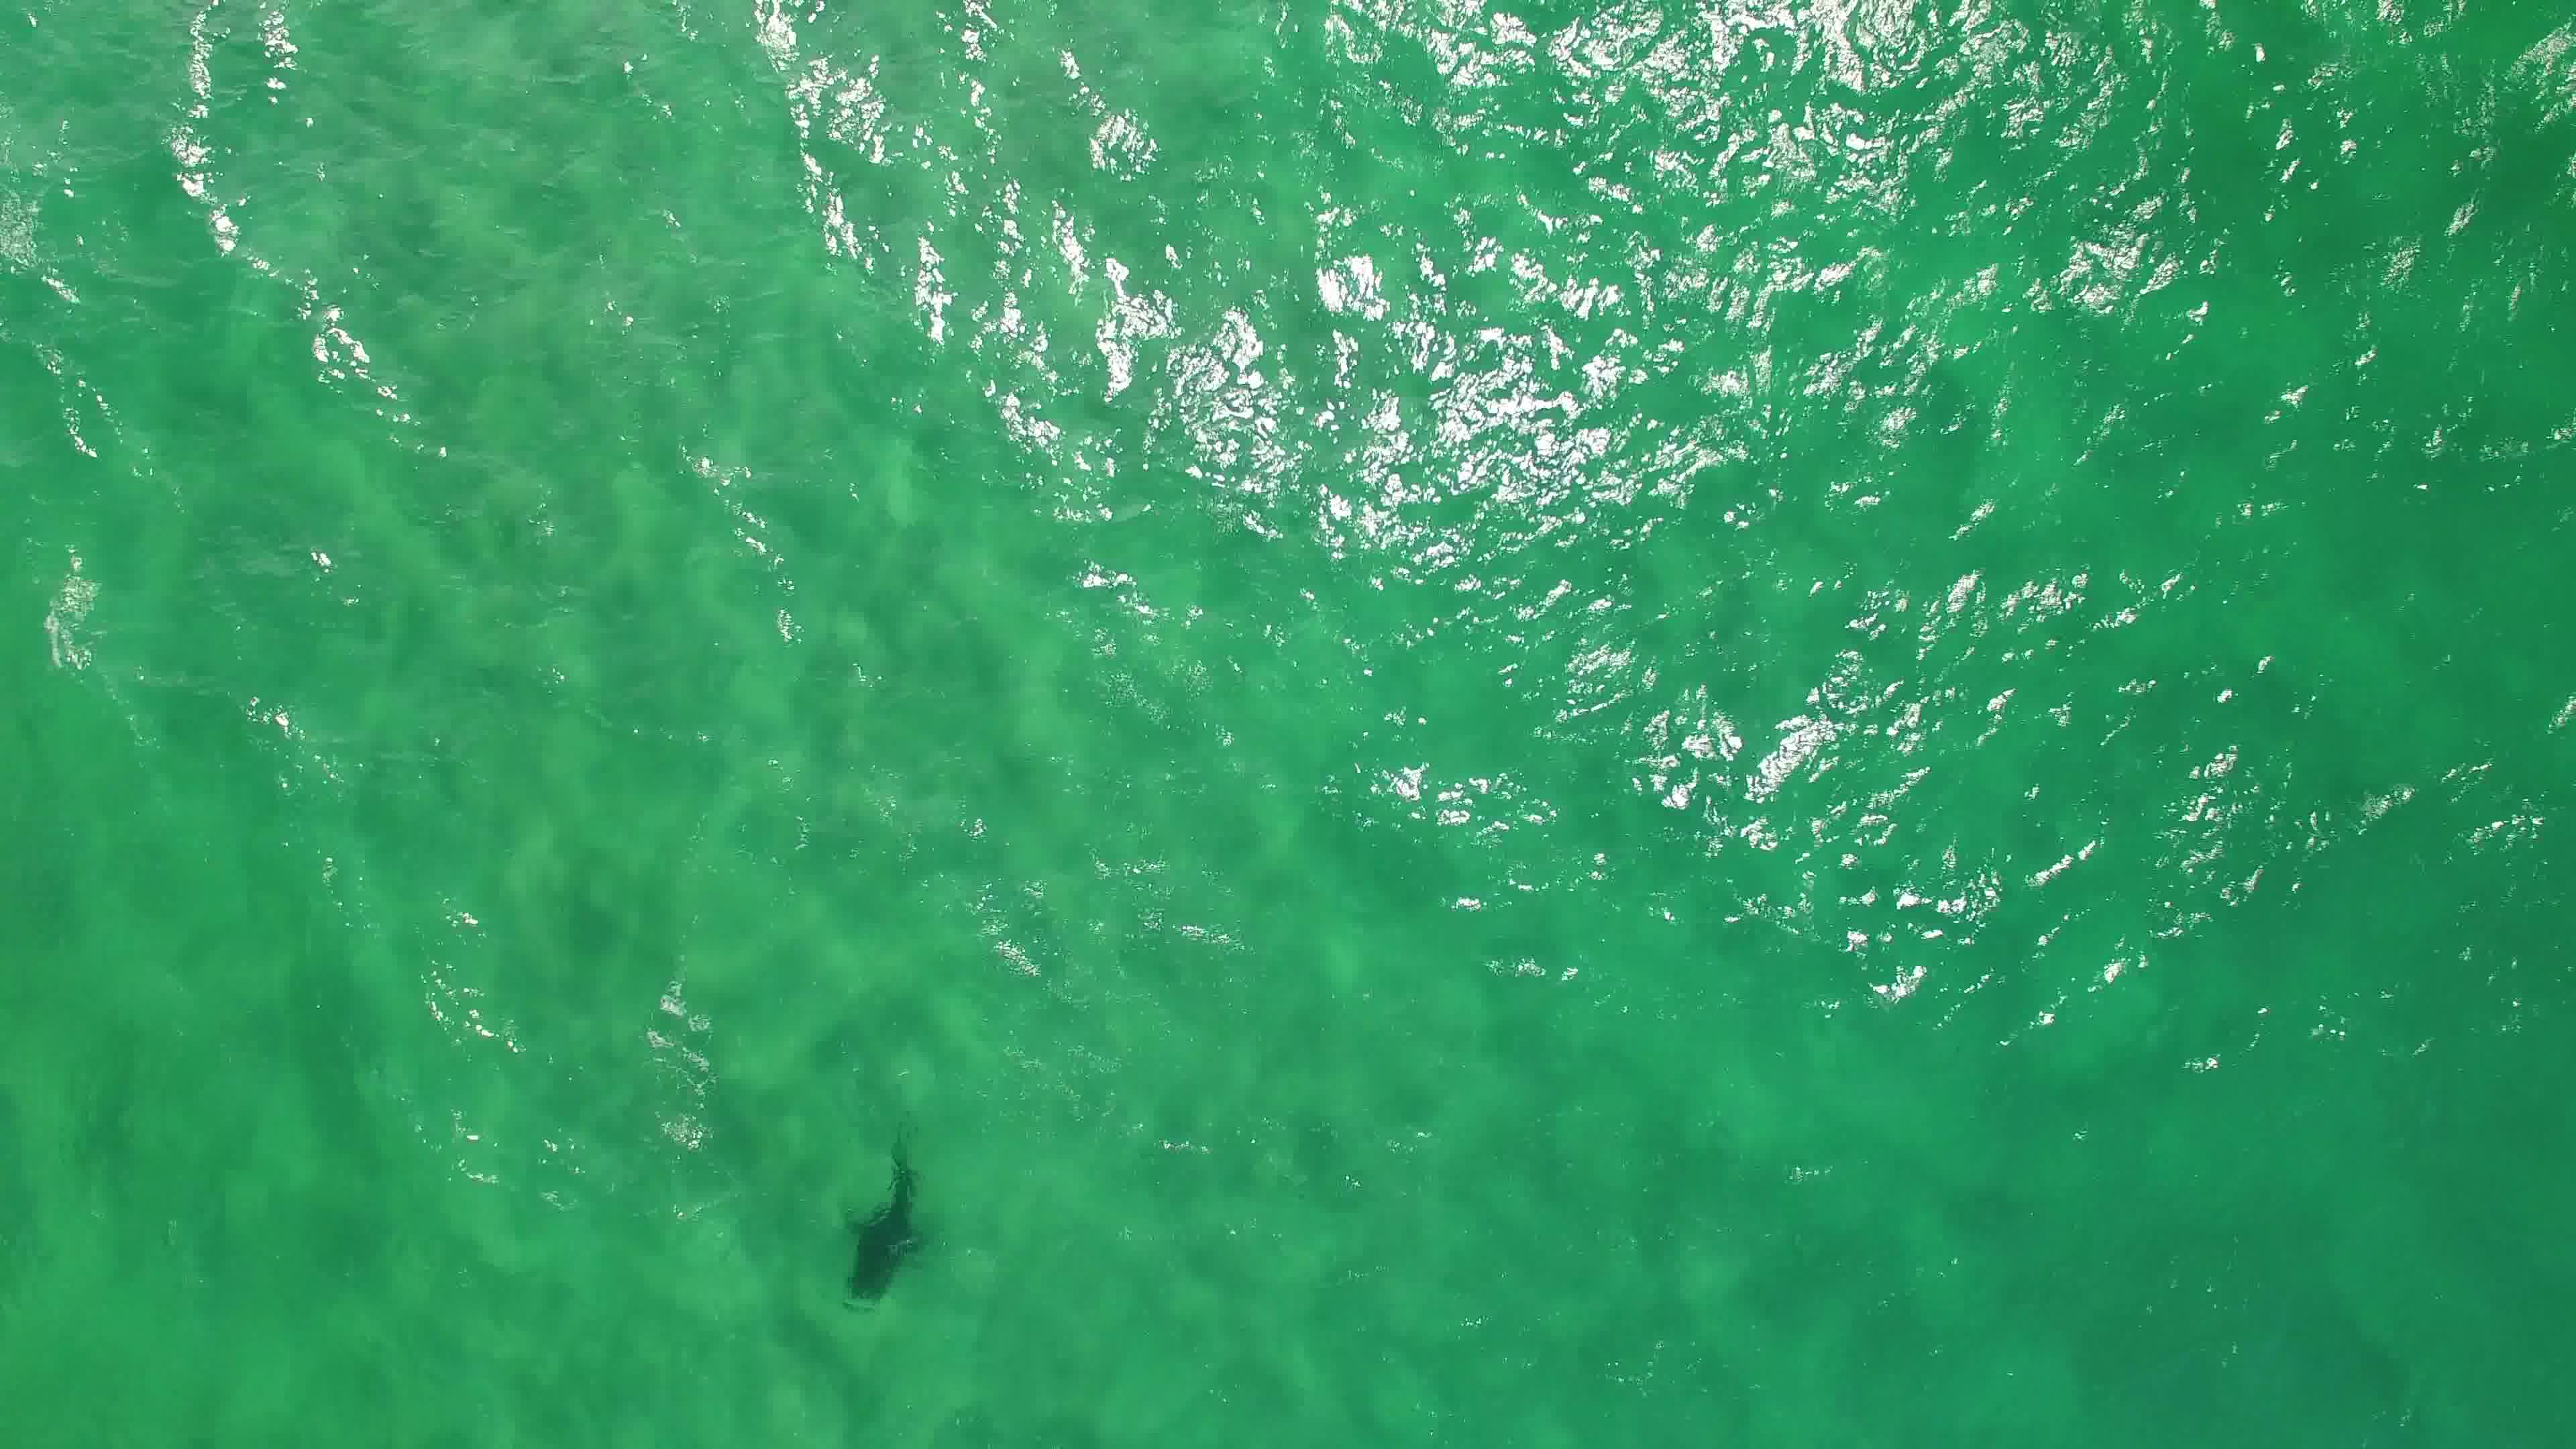shark: (835, 1120, 938, 1318)
